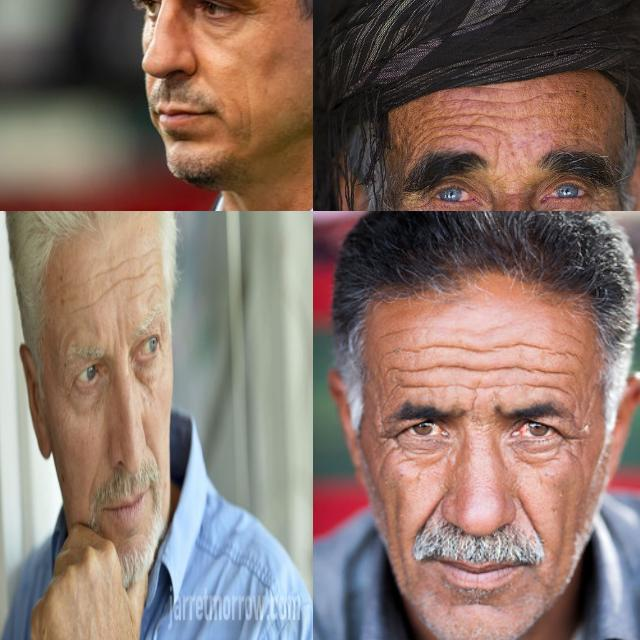crows_feet: (370, 421, 398, 459), (557, 424, 585, 458), (399, 188, 426, 211), (61, 380, 72, 409)
forehead: (423, 109, 495, 147), (481, 340, 527, 390), (433, 336, 472, 394), (531, 344, 573, 396), (383, 343, 421, 392), (472, 88, 534, 114), (144, 244, 160, 279), (122, 254, 140, 285), (73, 294, 94, 318), (99, 280, 120, 300), (94, 262, 116, 279)
frown_line: (113, 318, 123, 346)
gummy_smile: (518, 496, 544, 540), (416, 495, 442, 539), (146, 435, 158, 469), (86, 478, 98, 500)
masseter: (231, 96, 257, 134)
